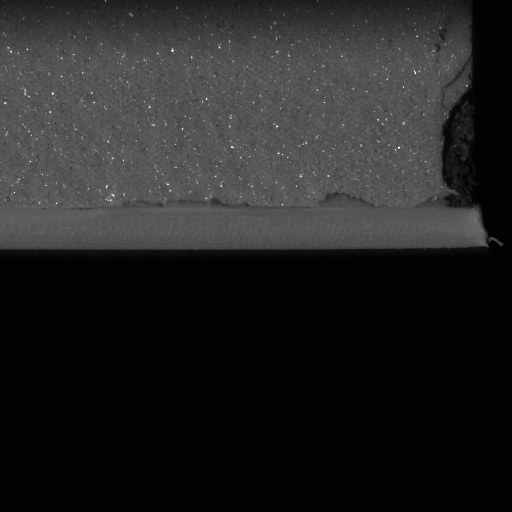bengque: (441, 97, 486, 214)
